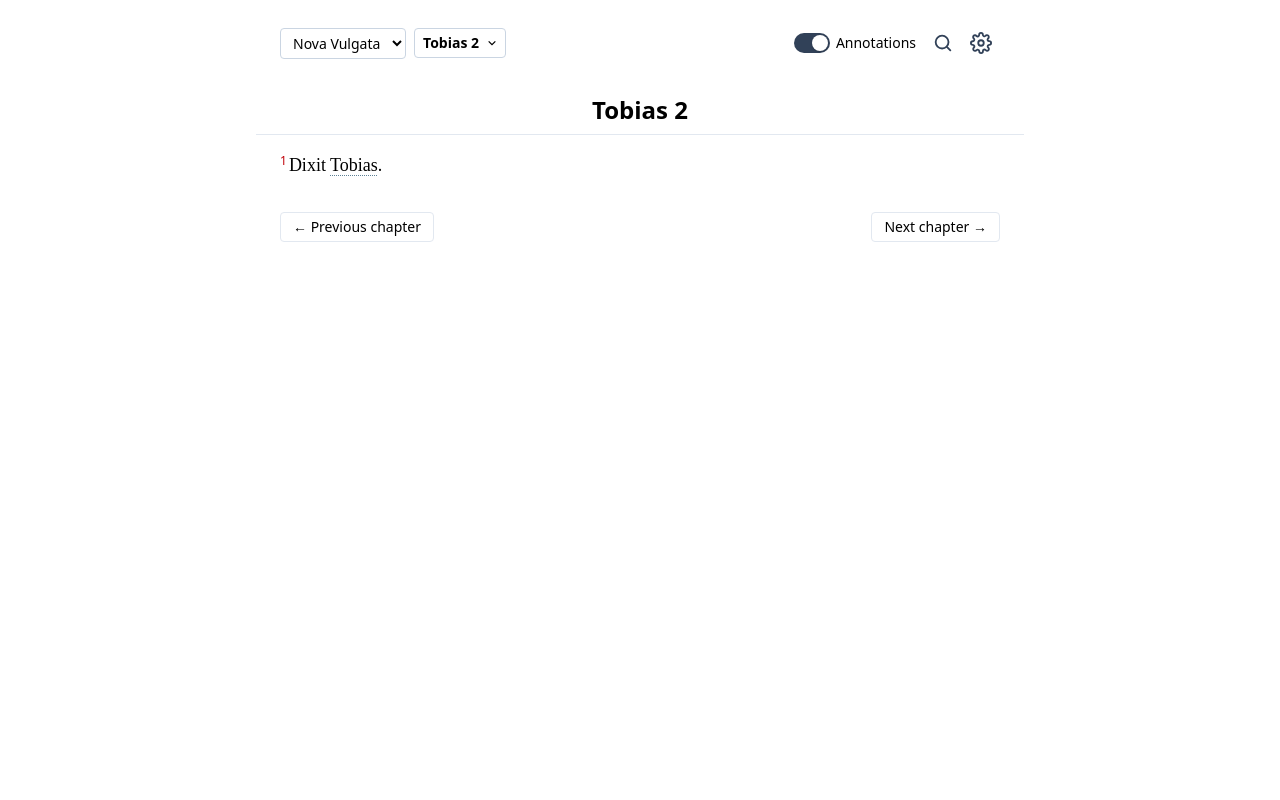
Test: chapter › aPinnedCardDoesNotSurviveTheNextPage
Later steps or results of the test are not shown.
What coordinates should you click on to do the following:
click the button "Tobias"
I would click on:
 (354, 165)
Its box is top-left (330, 155), bottom-right (378, 175).
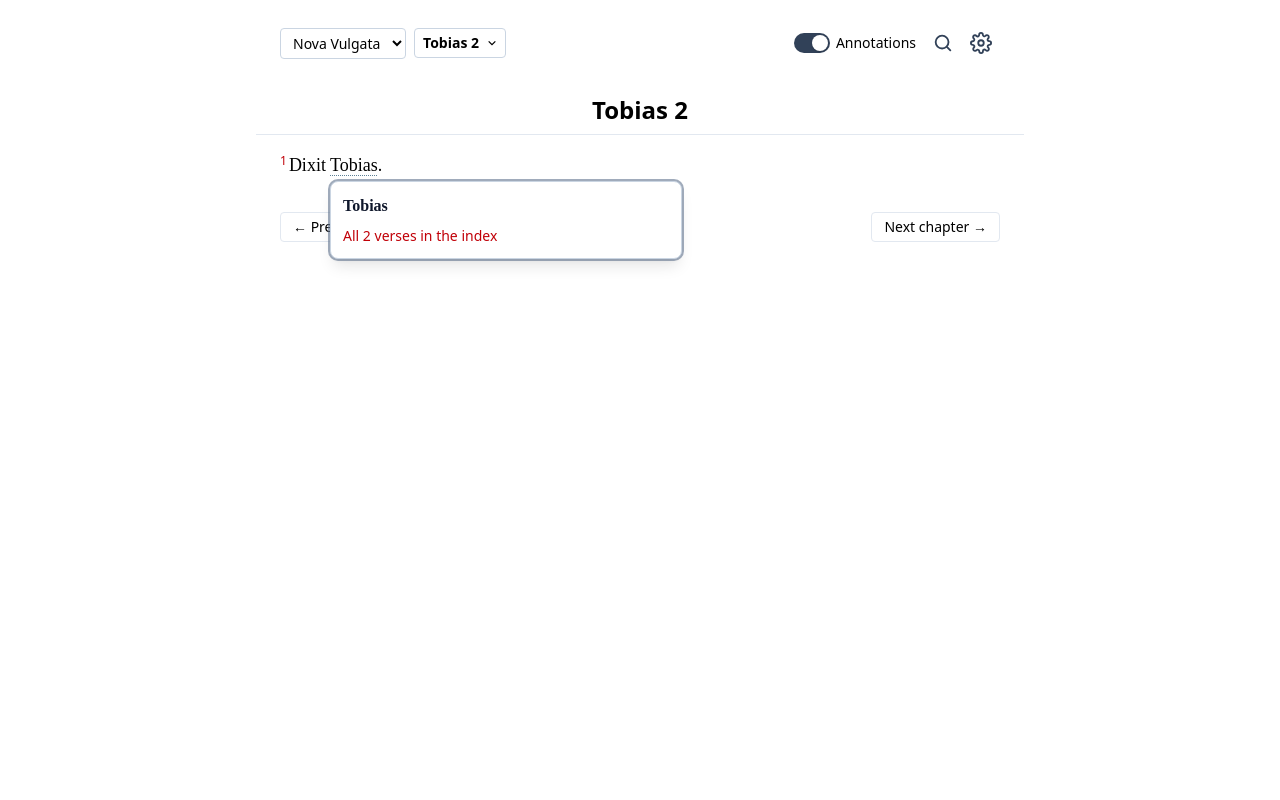
expect the dialog "Tobias" is shown: met, box top-left (330, 181), bottom-right (682, 259)
